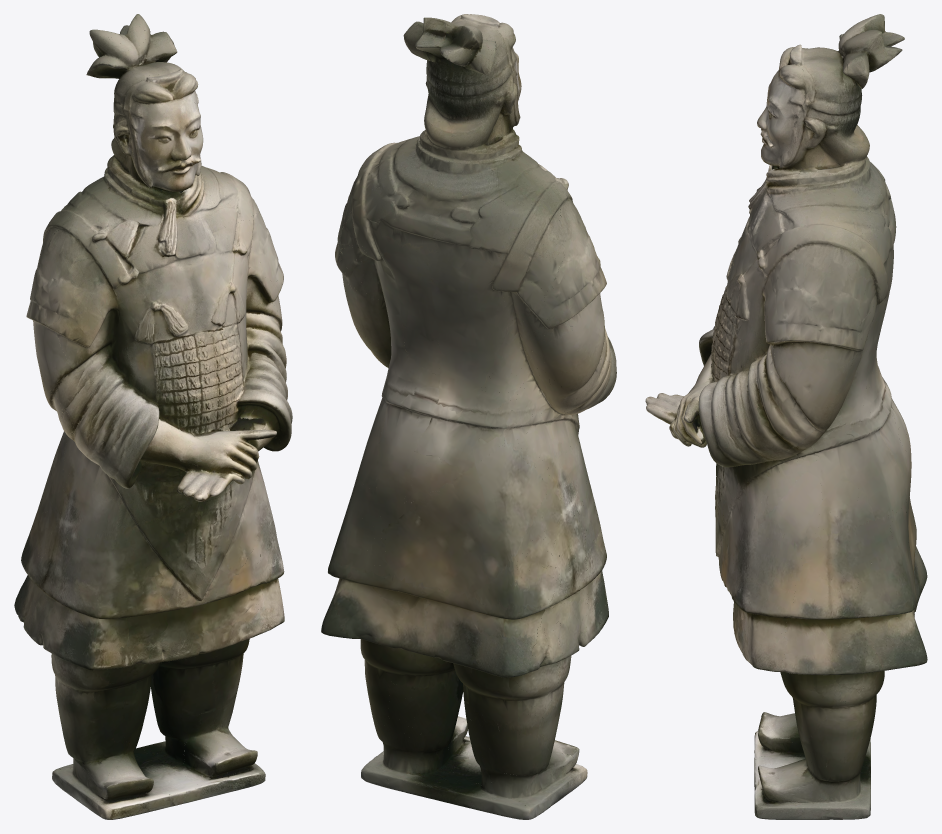
File: general.glb
The picture shows the model from 3 angles, left to right: view 1: azimuth 30°, elevation 25°; view 2: azimuth 150°, elevation 25°; view 3: azimuth 270°, elevation 25°; orthographic projection. The views are drawn at different scales.
Visible parts, largest first — view 1: mesh_1, mesh_0, mesh_2; view 2: mesh_0, mesh_1; view 3: mesh_0, mesh_1, mesh_2.
Boxes of the visible parts, left/top/right/bottom form: mesh_1: left=14, top=14, right=292, bottom=819; mesh_0: left=16, top=25, right=283, bottom=816; mesh_2: left=111, top=282, right=291, bottom=646; mesh_0: left=321, top=14, right=609, bottom=819; mesh_1: left=327, top=14, right=616, bottom=818; mesh_0: left=645, top=14, right=927, bottom=819; mesh_1: left=703, top=15, right=927, bottom=819; mesh_2: left=680, top=259, right=746, bottom=634.
Bounding box in the file's own units: 0.6347 × 1.9 × 0.6426.
1 material, 1 textured.
